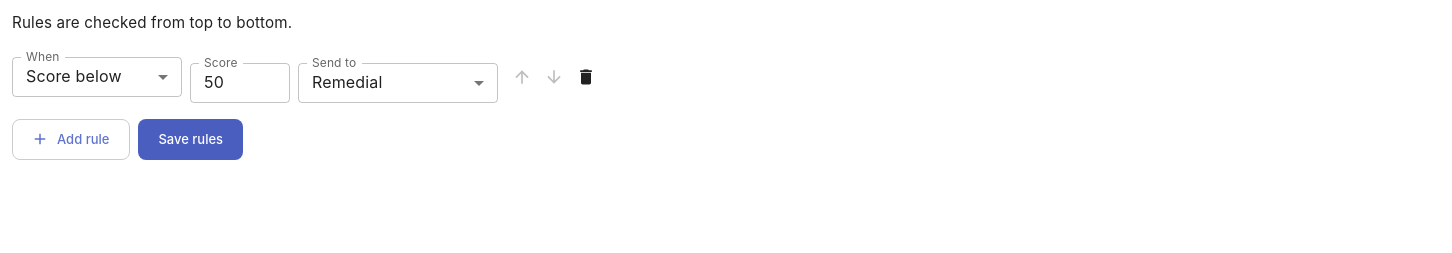
Scenario: QuizBranching › asks for a score before saving a score rule without one
Clear the number field labelled "Score" at (240, 83), box [190, 63, 290, 103]
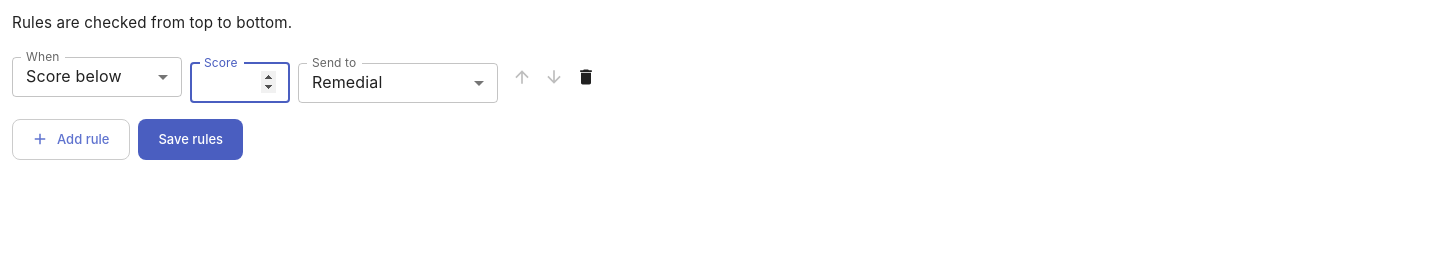
Click the button "Save rules" at (191, 139), box [138, 119, 243, 160]
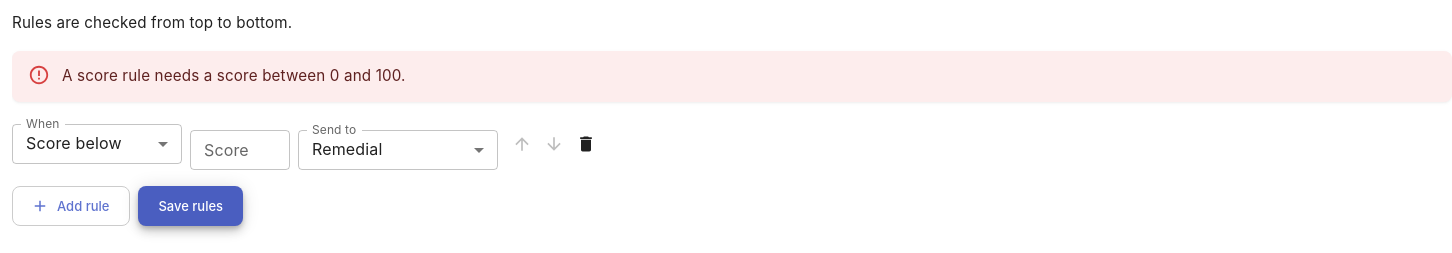
Now the text "A score rule needs a score between 0 and 100." is shown, box [62, 66, 406, 85]
